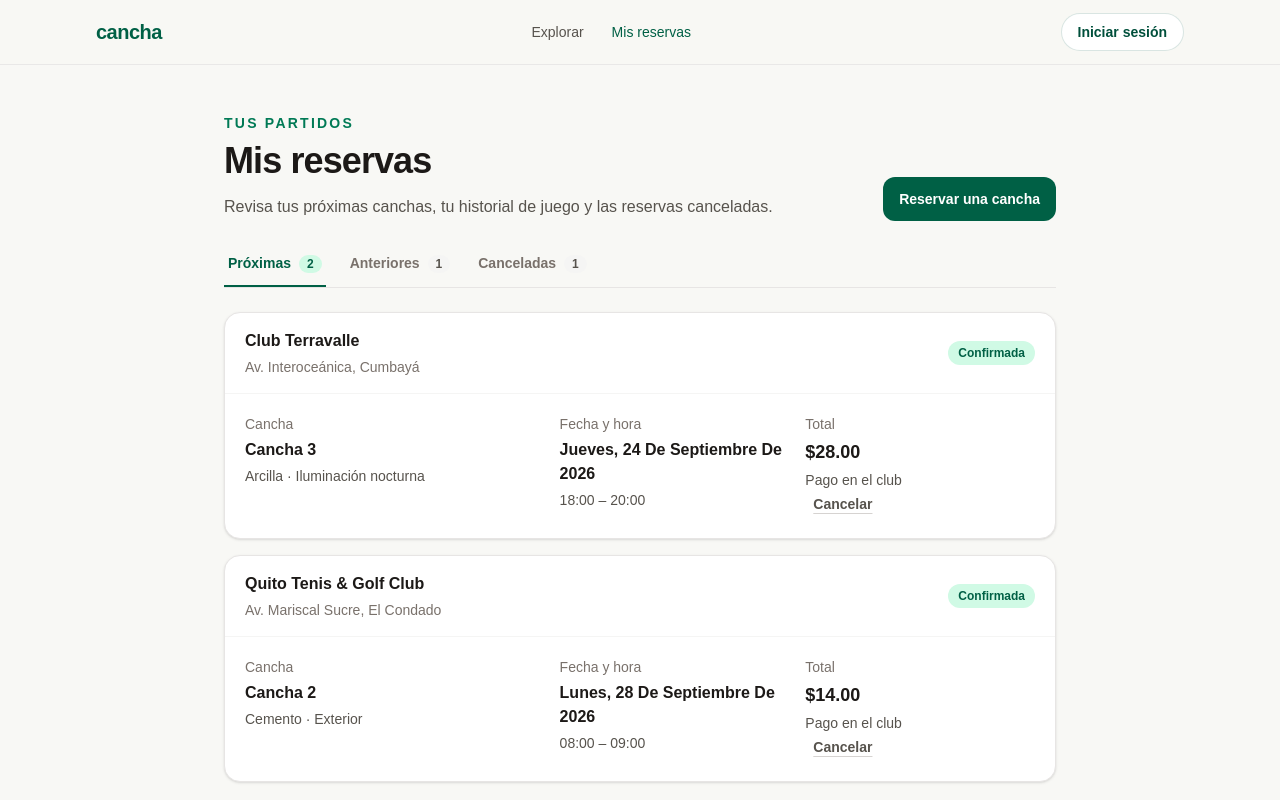
Scenario: ReservationsPage › moves a future reservation to cancelled after cancelling it
Click the button "Cancelar" below "28.00" at (843, 504), box [805,490,880,518]
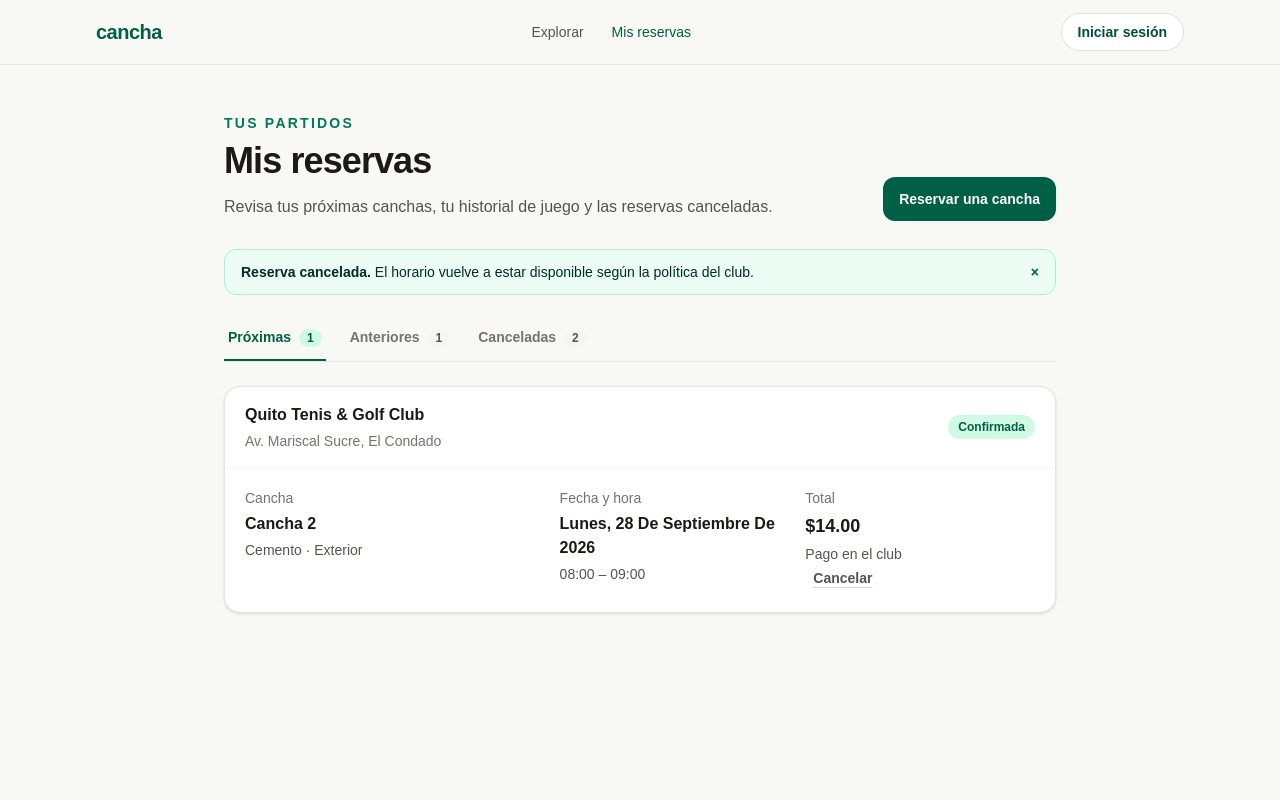
Check: the message shows "Reserva cancelada", box [241,264,371,280]
Click the tab "Canceladas 2" at (532, 344), box [474,327,591,361]
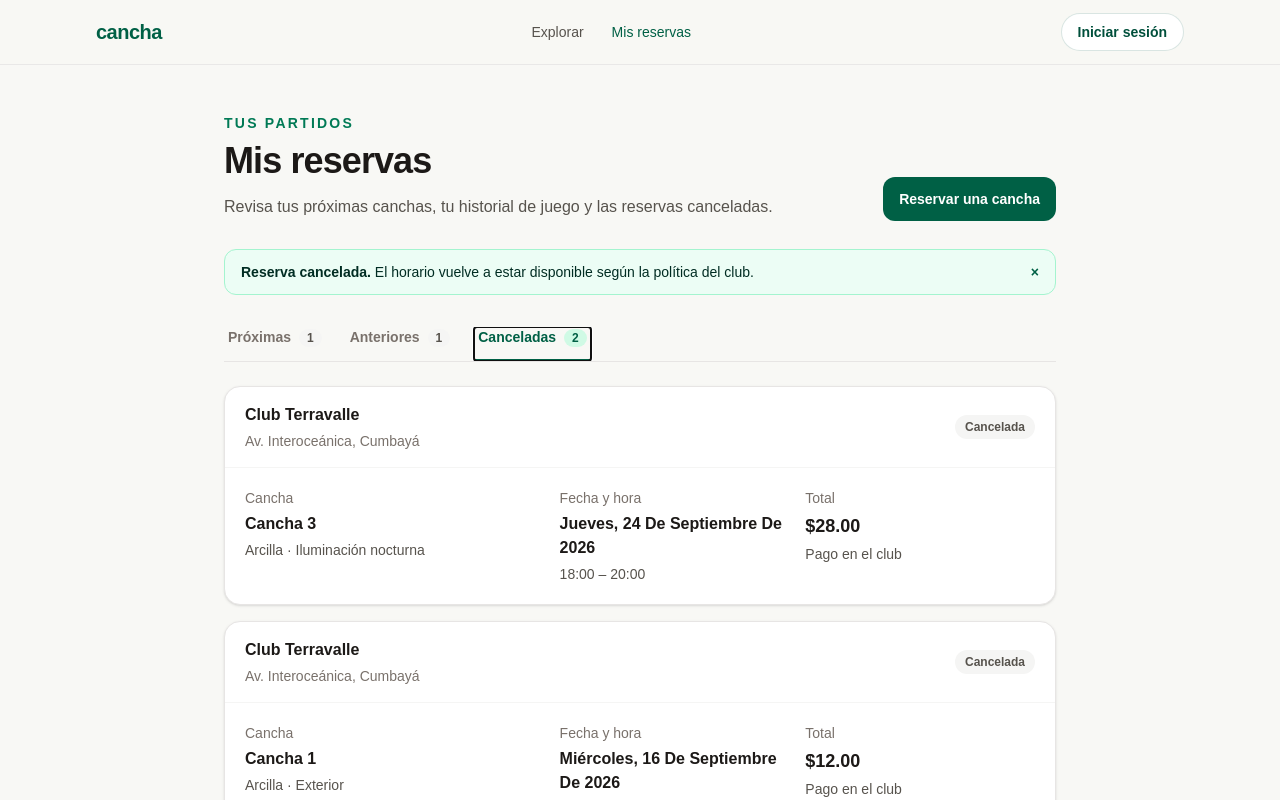
Check: the text "Cancelada" is shown 2 times, box [955,415,1035,439]; [955,650,1035,674]
